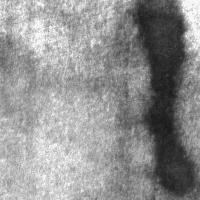patches: (0, 60, 109, 200), (90, 88, 200, 200), (135, 1, 192, 193), (96, 21, 194, 119)
